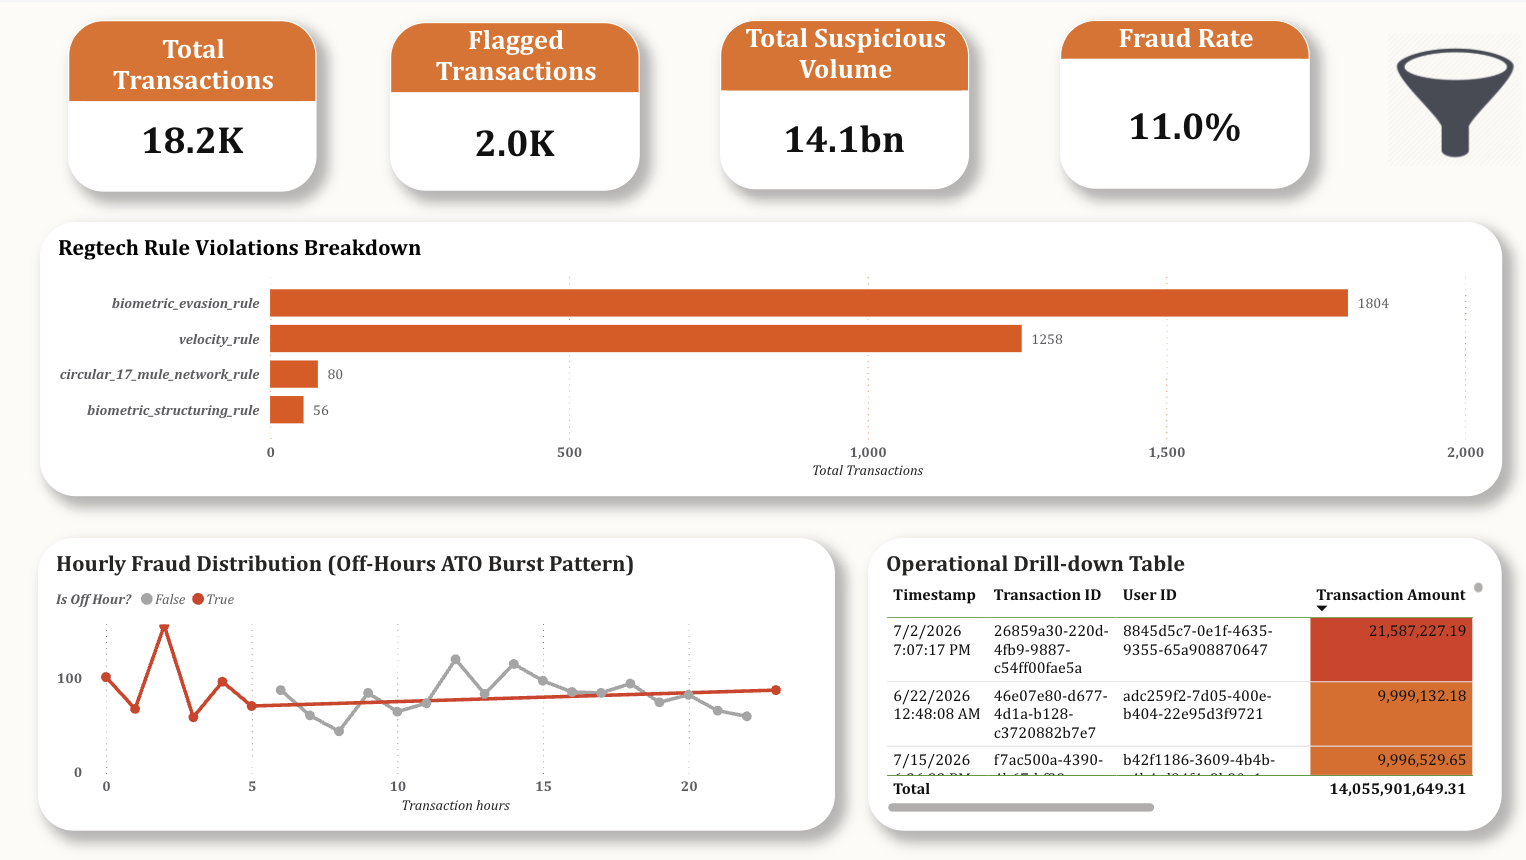

This screenshot's page, from the dashboard's own definition file:
{"tool":"powerbi","page":{"name":"Page 1","canvas":[1280,720],"ordinal":0},"visuals":[{"type":"cardVisual","title":"Total Transactions","fields":{"Data":["Count(vw_dashboard_fraud_summary.transaction_id)"]},"box":[57.1,14.3,208.3,144],"z":0},{"type":"cardVisual","title":"Flagged Transactions","fields":{"Data":["Sum(vw_dashboard_fraud_summary.is_flagged)"]},"box":[327.4,16.7,209.5,141.7],"z":1000},{"type":"cardVisual","title":"Fraud Rate","fields":{"Data":["Avg(vw_dashboard_fraud_summary.is_flagged)"]},"box":[889.3,15.5,209.5,141.7],"z":2000},{"type":"cardVisual","title":"Total Suspicious Volume","fields":{"Data":["Sum(vw_dashboard_fraud_summary.amount)"]},"box":[603.5,15.8,208.8,142.1],"z":3000},{"type":"clusteredBarChart","title":"Regtech Rule Violations Breakdown","fields":{"Category":["vw_dashboard_rule_breakdown.rule_name"],"Y":["CountNonNull(vw_dashboard_rule_breakdown.transaction_id)"]},"box":[33.3,184.2,1226.3,229.8],"z":4000},{"type":"lineChart","title":"Hourly Fraud Distribution (Off-Hours ATO Burst Pattern)","fields":{"Y":["Sum(vw_dashboard_fraud_summary.is_flagged)"],"Series":["vw_dashboard_fraud_summary.is_off_hours"],"Category":["vw_dashboard_fraud_summary.Transaction_Hour"]},"box":[31.6,449.1,668.4,245.6],"z":5000},{"type":"tableEx","title":"Operational Drill-down Table","fields":{"Values":["vw_dashboard_fraud_summary.timestamp","vw_dashboard_fraud_summary.transaction_id","vw_dashboard_fraud_summary.user_id","Sum(vw_dashboard_fraud_summary.amount)","vw_dashboard_fraud_summary.beneficiary_bank_code","vw_dashboard_fraud_summary.beneficiary_country","vw_dashboard_fraud_summary.rule_flags"]},"box":[728.1,449.1,531.6,245.6],"z":6000},{"type":"actionButton","title":"Filter Button","box":[1159.6,0,121.1,163.2],"z":7000}]}

Visuals, with their boxes in screenshot pixels (x1, y1, x2, y2), scaled from the page's 1280x720 canvas onto the 1526x860 screenshot:
"Total Transactions" cardVisual: region(68, 17, 316, 189)
"Flagged Transactions" cardVisual: region(390, 20, 640, 189)
"Fraud Rate" cardVisual: region(1060, 19, 1310, 188)
"Total Suspicious Volume" cardVisual: region(719, 19, 968, 189)
"Regtech Rule Violations Breakdown" clusteredBarChart: region(40, 220, 1502, 494)
"Hourly Fraud Distribution (Off-Hours ATO Burst Pattern)" lineChart: region(38, 536, 835, 830)
"Operational Drill-down Table" tableEx: region(868, 536, 1502, 830)
"Filter Button" actionButton: region(1382, 0, 1525, 195)
